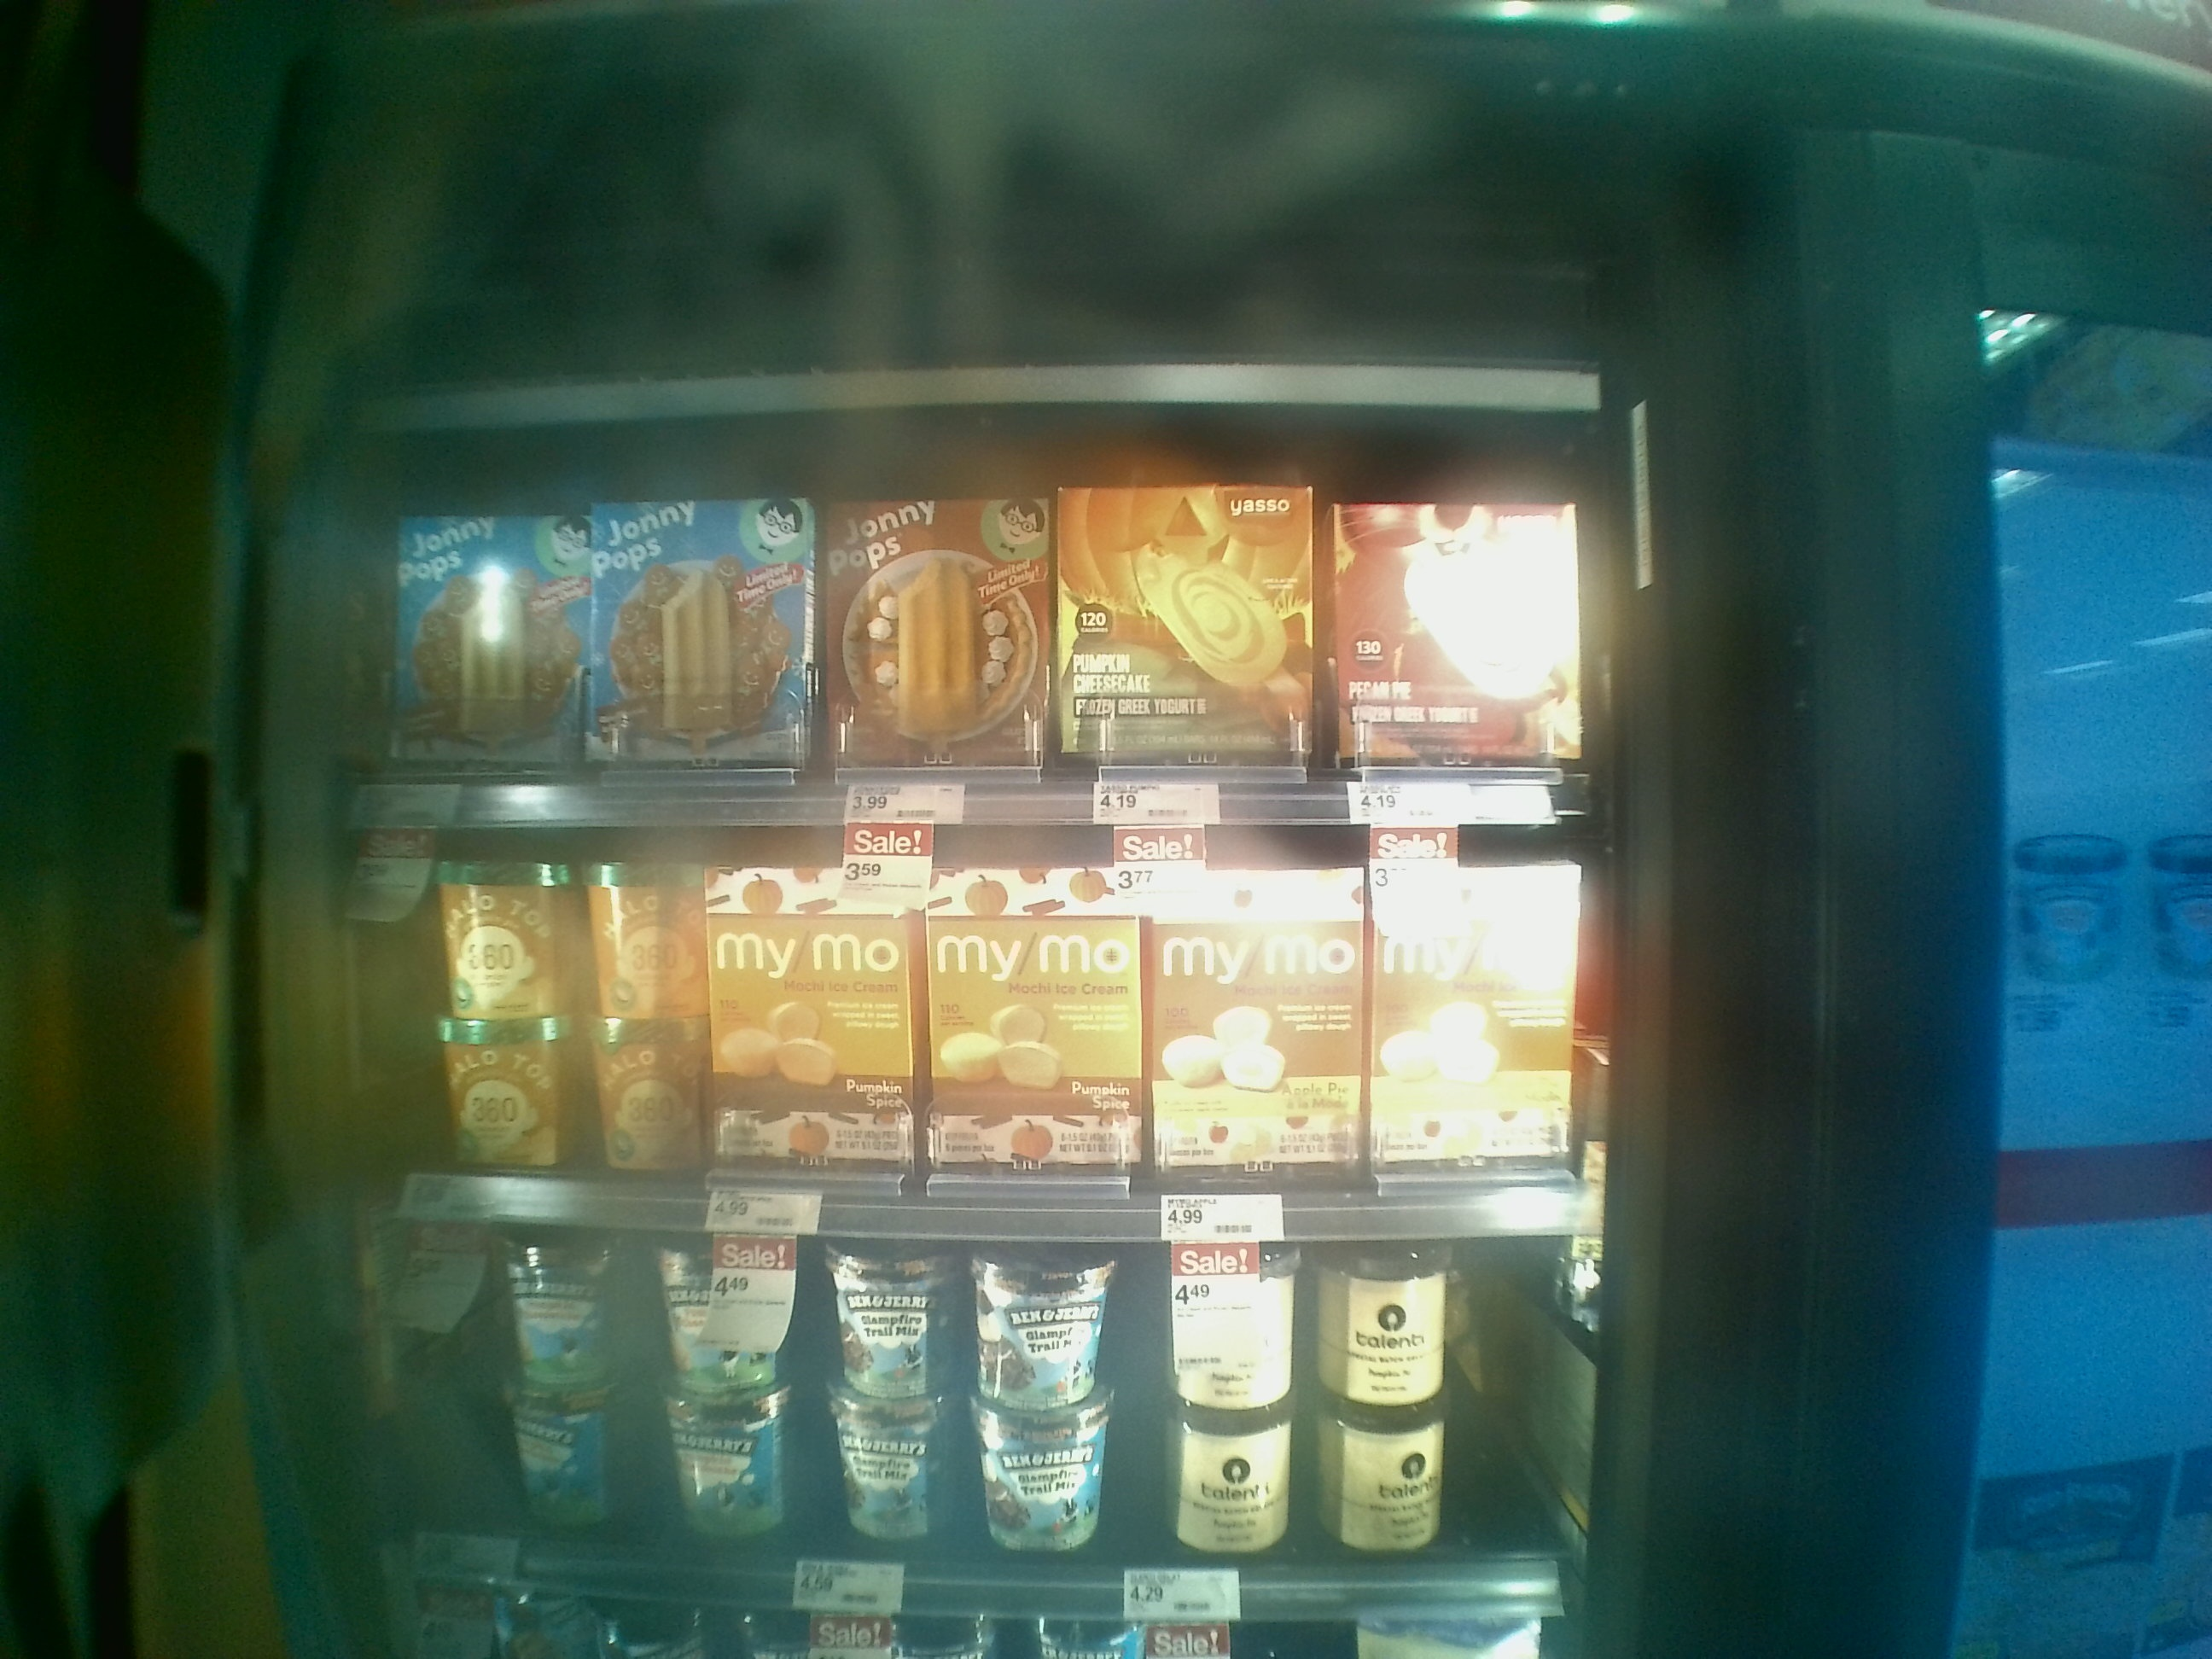shelf: (280, 781, 1616, 1243), (291, 1171, 1576, 1612), (298, 401, 1625, 823)
